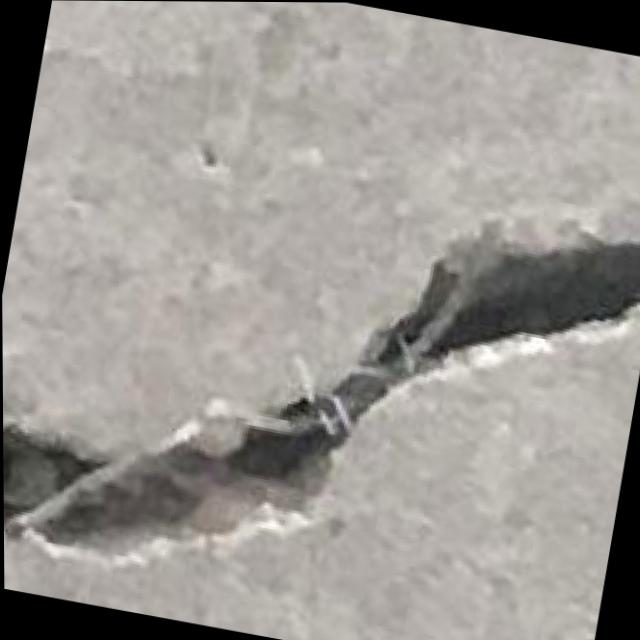Crack: (1, 119, 640, 640)
